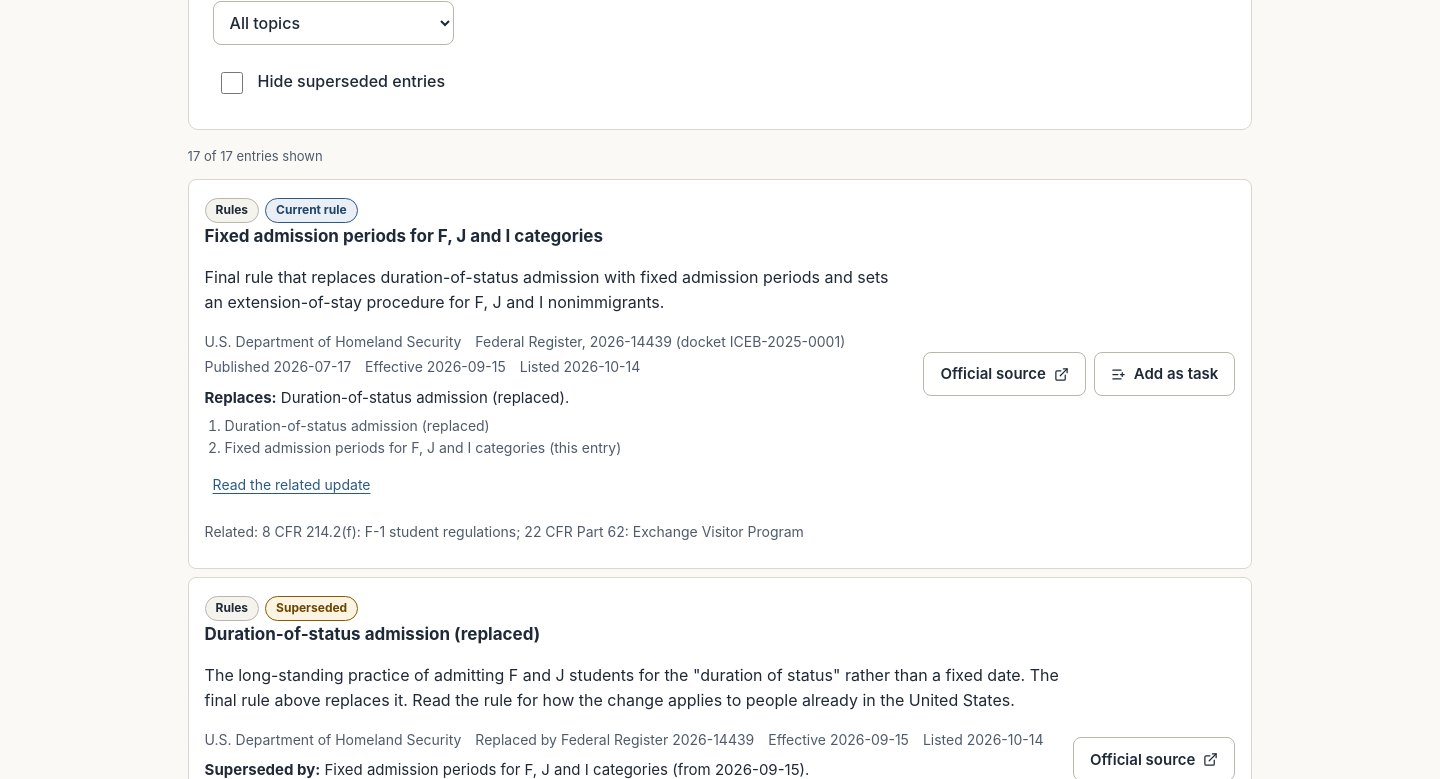
RulesPage › shows task errors in plain words
(page scrolled)
What coordinates should you click on to do the following:
click the button with aria-label "Add a task to review"
I would click on:
 (1165, 374)
Its box is top-left (1094, 352), bottom-right (1235, 396).
(page scrolled)
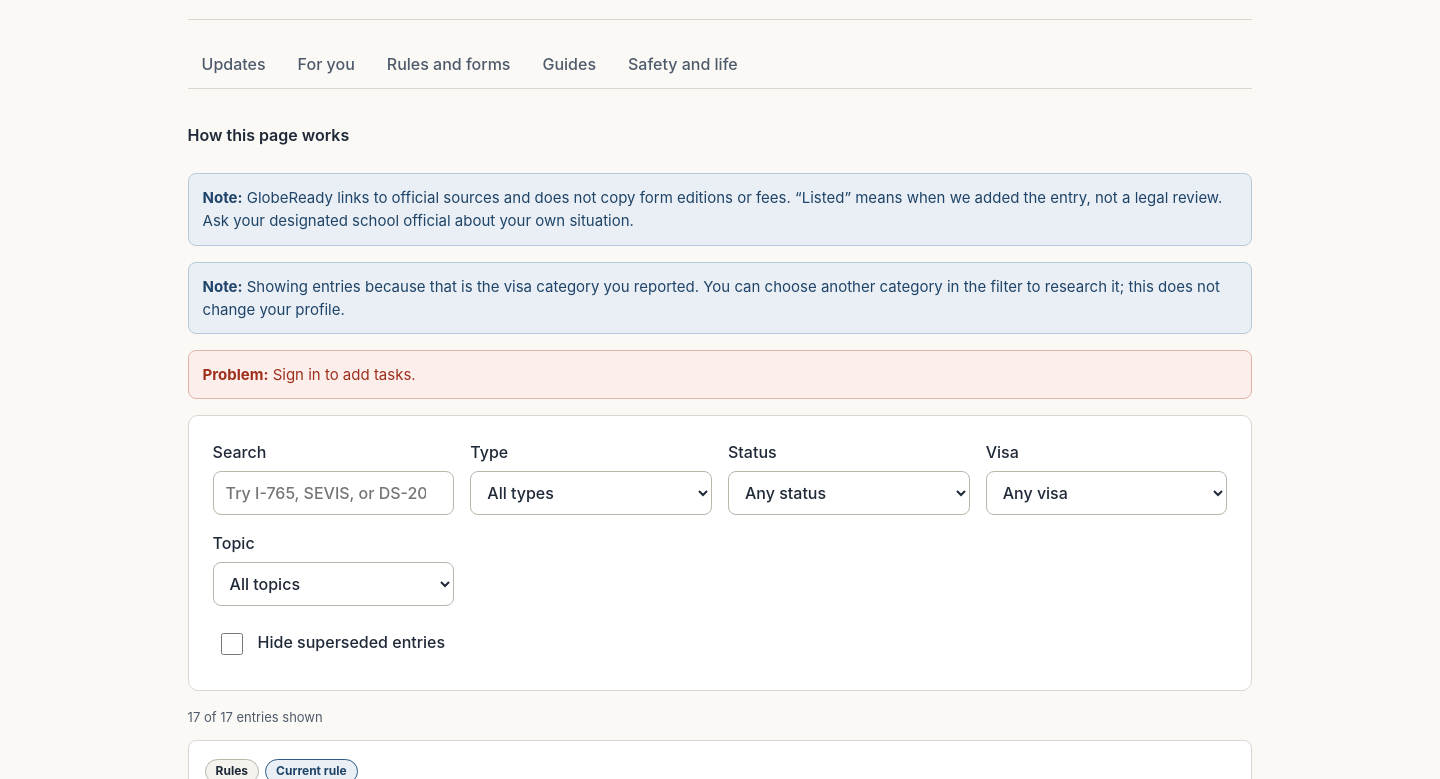
Expected: the message "Problem: Sign in to add tasks." is shown, top-left (188, 350), bottom-right (1252, 400)
